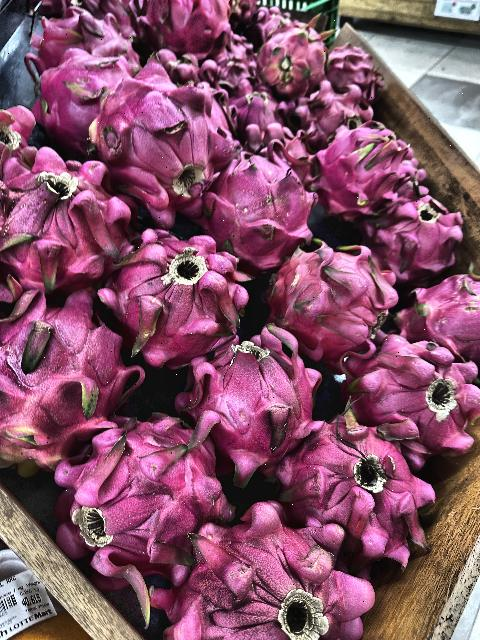buah-naga-matang: (46, 417, 232, 567), (160, 526, 374, 640), (0, 288, 138, 460), (274, 431, 448, 559), (99, 226, 253, 368), (80, 68, 225, 202), (268, 227, 400, 363), (336, 327, 480, 447), (0, 146, 124, 282), (176, 348, 332, 452), (214, 144, 314, 274), (384, 252, 480, 368), (320, 108, 406, 226), (369, 186, 467, 284), (30, 46, 125, 130), (132, 0, 244, 58), (252, 14, 332, 94)
